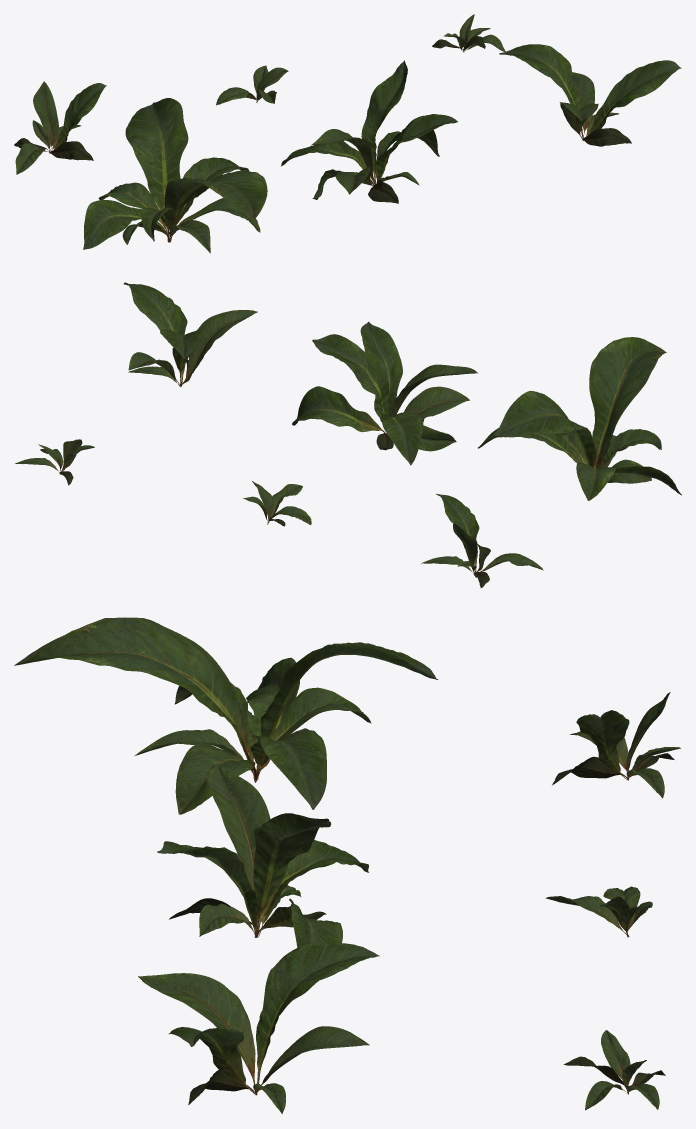
Rendered from anthurium_botany_01.glb.
3 renders of one model, top to bottom at view 1: azimuth 30°, elevation 25°; view 2: azimuth 150°, elevation 25°; view 3: azimuth 270°, elevation 25°, orthographic. The views are drawn at different scales.
Parts seen in each view (by area): view 1: anthurium_botany_01_a, anthurium_botany_01_b, anthurium_botany_01_c, anthurium_botany_04_d, anthurium_botany_05_e, anthurium_botany_06_f; view 2: anthurium_botany_01_a, anthurium_botany_01_b, anthurium_botany_01_c, anthurium_botany_04_d, anthurium_botany_05_e, anthurium_botany_06_f; view 3: anthurium_botany_01_a, anthurium_botany_01_b, anthurium_botany_01_c, anthurium_botany_04_d, anthurium_botany_06_f, anthurium_botany_05_e.
Part boxes in pixels (box(x1,y1,x2,y2)): anthurium_botany_01_a: box(83, 98, 267, 253); anthurium_botany_01_b: box(281, 60, 457, 203); anthurium_botany_01_c: box(499, 44, 681, 146); anthurium_botany_04_d: box(14, 81, 106, 174); anthurium_botany_05_e: box(216, 65, 288, 105); anthurium_botany_06_f: box(432, 14, 505, 52); anthurium_botany_01_a: box(478, 337, 681, 500); anthurium_botany_01_b: box(292, 321, 477, 465); anthurium_botany_01_c: box(123, 282, 257, 386); anthurium_botany_04_d: box(421, 494, 543, 588); anthurium_botany_05_e: box(243, 481, 311, 526); anthurium_botany_06_f: box(15, 439, 94, 485); anthurium_botany_01_a: box(14, 617, 437, 814); anthurium_botany_01_b: box(157, 763, 368, 981); anthurium_botany_01_c: box(138, 942, 379, 1113); anthurium_botany_04_d: box(552, 692, 680, 798); anthurium_botany_06_f: box(563, 1030, 665, 1110); anthurium_botany_05_e: box(545, 886, 652, 937).
Size of the model in its own units: 2.8 by 0.4997 by 1.8.
1 material, 1 textured.
